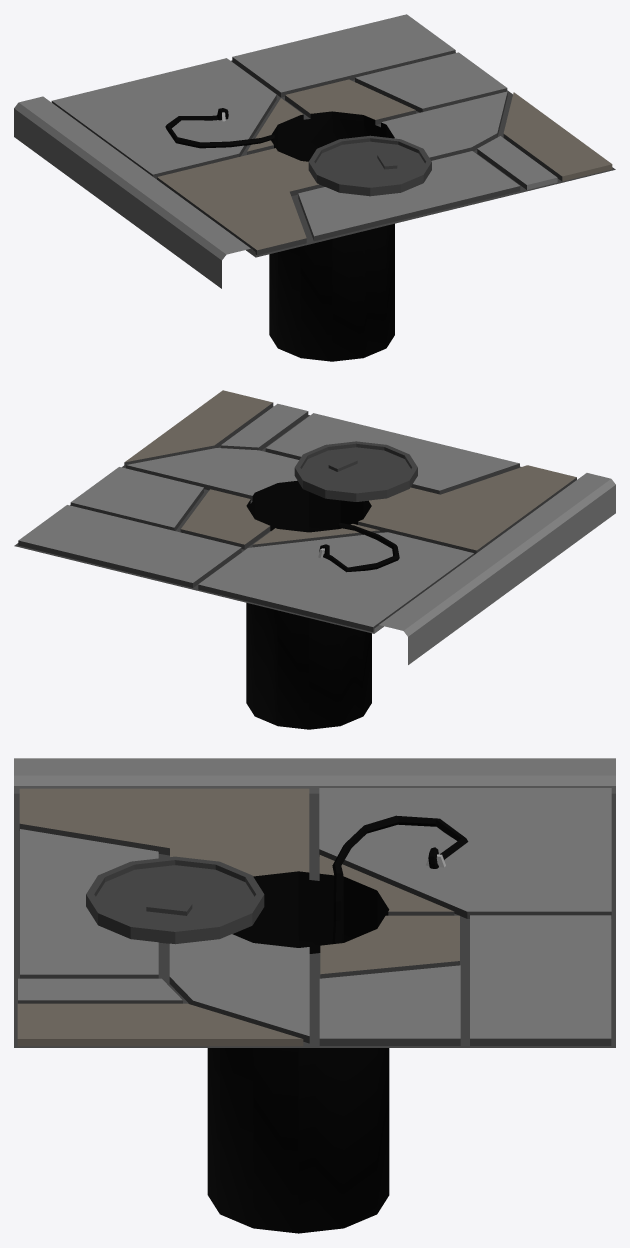
The model's file is Walkway Modern - Open Sewer.fbx.
3 views of the same model, one above another, from view 1: azimuth 30°, elevation 25°; view 2: azimuth 150°, elevation 25°; view 3: azimuth 270°, elevation 25° (orthographic). The views are drawn at different scales.
Parts seen in each view (by area): view 1: Walkway Modern - Open Sewer.001; view 2: Walkway Modern - Open Sewer.001; view 3: Walkway Modern - Open Sewer.001.
Boxes of the visible parts, x1,y1,x2,y2 form: Walkway Modern - Open Sewer.001: (14,14,615,361); Walkway Modern - Open Sewer.001: (14,390,615,729); Walkway Modern - Open Sewer.001: (14,758,615,1233).
Bounding box in the file's own units: 391 × 358 × 197.
